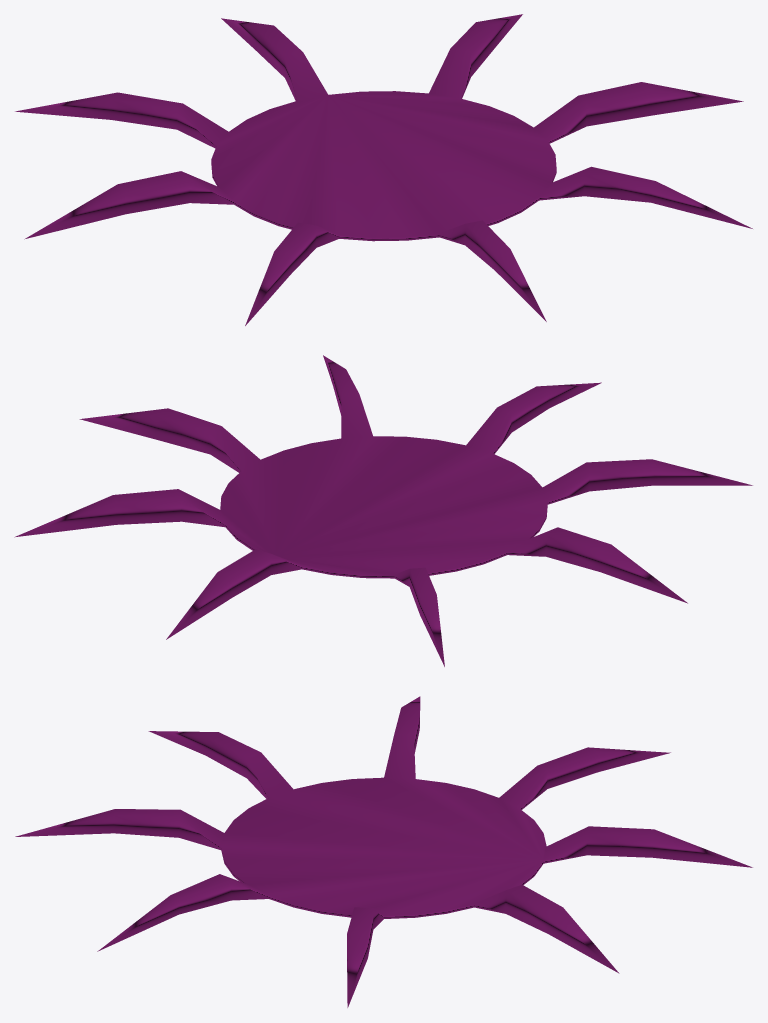
Rendered from ловушка.fbx.
3 views of the same model, one above another, from view 1: azimuth 30°, elevation 25°; view 2: azimuth 150°, elevation 25°; view 3: azimuth 270°, elevation 25° (orthographic). The views are drawn at different scales.
Parts seen in each view (by area): view 1: Cylinder; view 2: Cylinder; view 3: Cylinder.
Part boxes in pixels (x1,y1,x2,y2): Cylinder: (15,14,752,325); Cylinder: (14,355,752,666); Cylinder: (15,696,752,1007).
Size of the model in its own units: 455 by 21.73 by 455.
